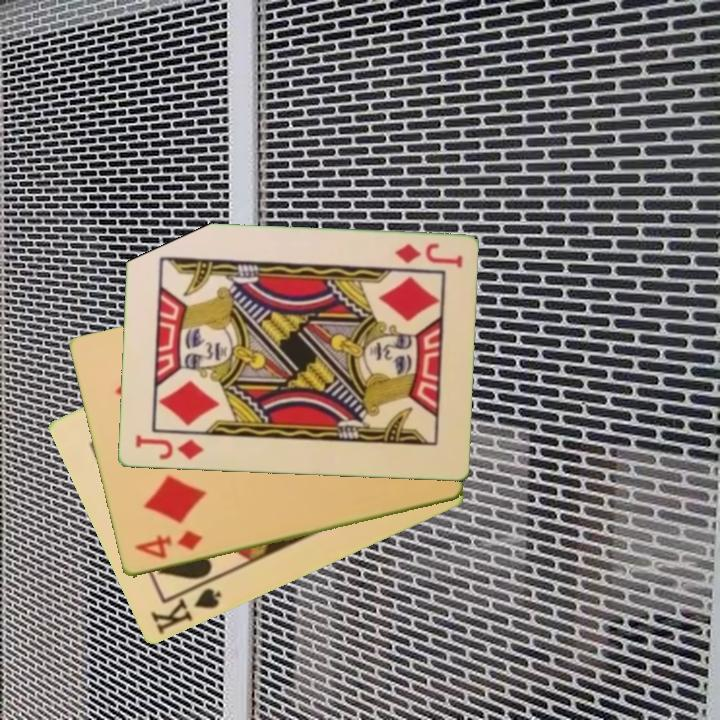4d: (131, 526, 205, 563)
Jd: (131, 431, 206, 463), (391, 240, 465, 271)
Ks: (146, 585, 224, 638)
